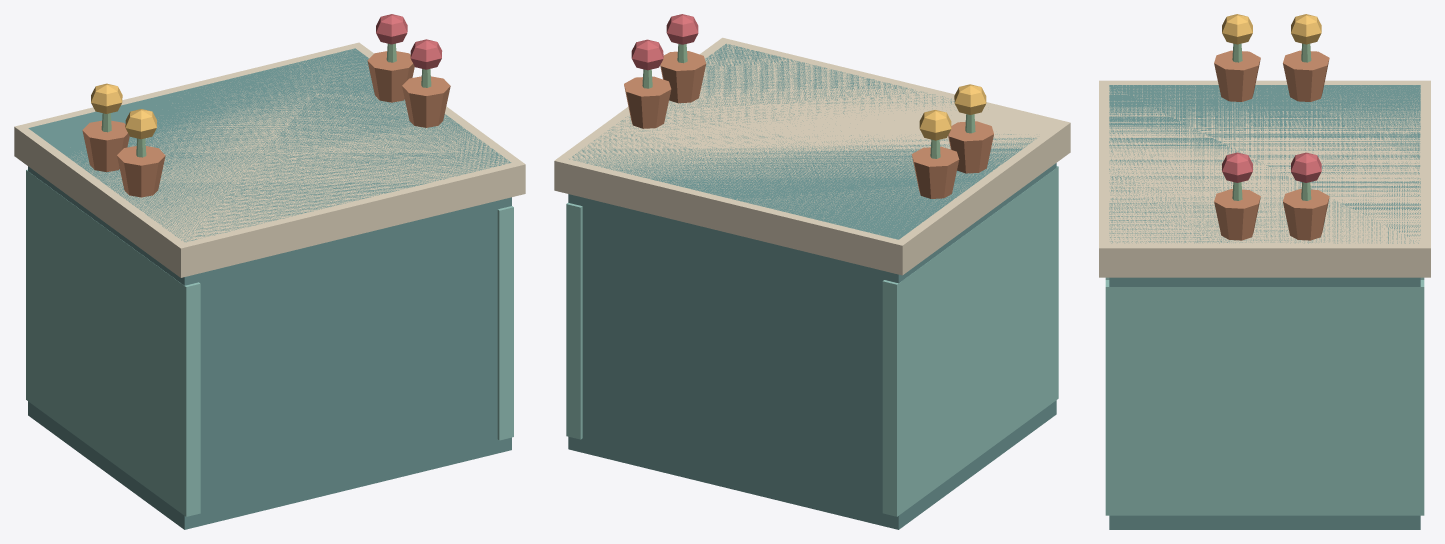
File: FloristWindowStage.glb
The picture shows the model from 3 angles, left to right: view 1: azimuth 30°, elevation 25°; view 2: azimuth 150°, elevation 25°; view 3: azimuth 270°, elevation 25°; orthographic projection.
Parts seen in each view (by area): view 1: FloristWindowStage; view 2: FloristWindowStage; view 3: FloristWindowStage.
Boxes of the visible parts, left/top/right/bottom form: FloristWindowStage: left=14, top=14, right=525, bottom=529; FloristWindowStage: left=554, top=14, right=1070, bottom=529; FloristWindowStage: left=1099, top=14, right=1430, bottom=529.
Size of the model in its own units: 1.96 by 2 by 1.64.
